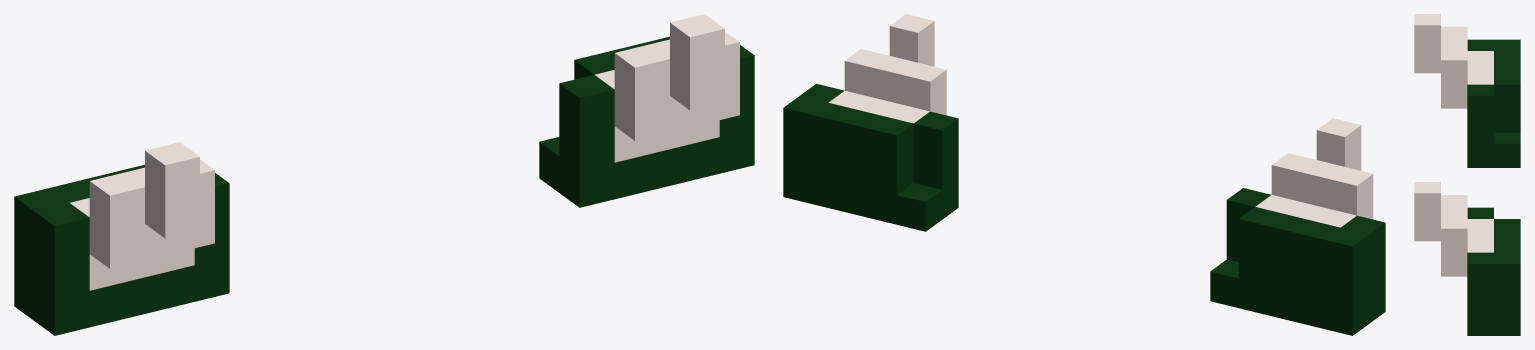
The model's file is humanoid-35.obj.
3 renders of one model, left to right at view 1: azimuth 30°, elevation 25°; view 2: azimuth 150°, elevation 25°; view 3: azimuth 270°, elevation 25°, orthographic. The views are drawn at different scales.
Visible parts, largest first — view 1: humanoid-35; view 2: humanoid-35; view 3: humanoid-35.
Boxes of the visible parts, x1,y1,x2,y2 form: humanoid-35: (14, 14, 754, 335); humanoid-35: (783, 14, 1385, 335); humanoid-35: (1414, 14, 1520, 335).
Size of the model in its own units: 20 by 5 by 4.
1 material, 1 textured.
